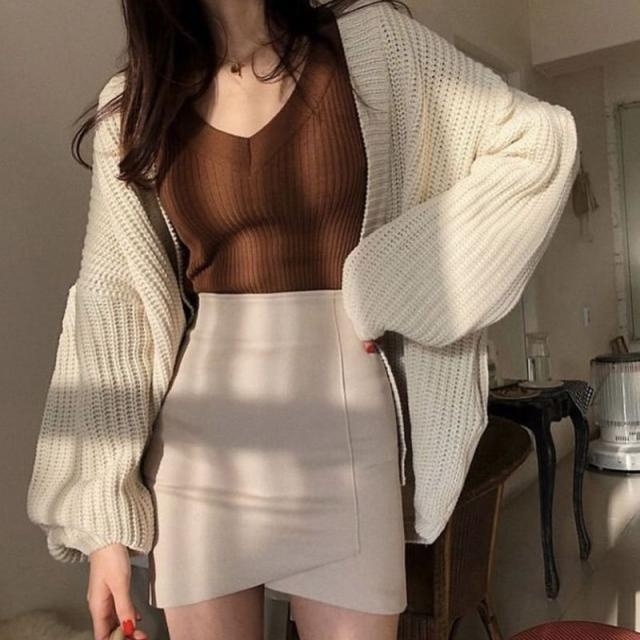Miniskirt: (147, 287, 409, 640)
low_neckline: (150, 10, 370, 293)
